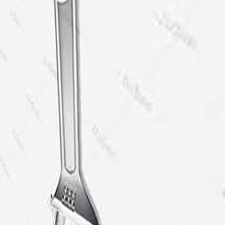wrench: (40, 1, 103, 225)
